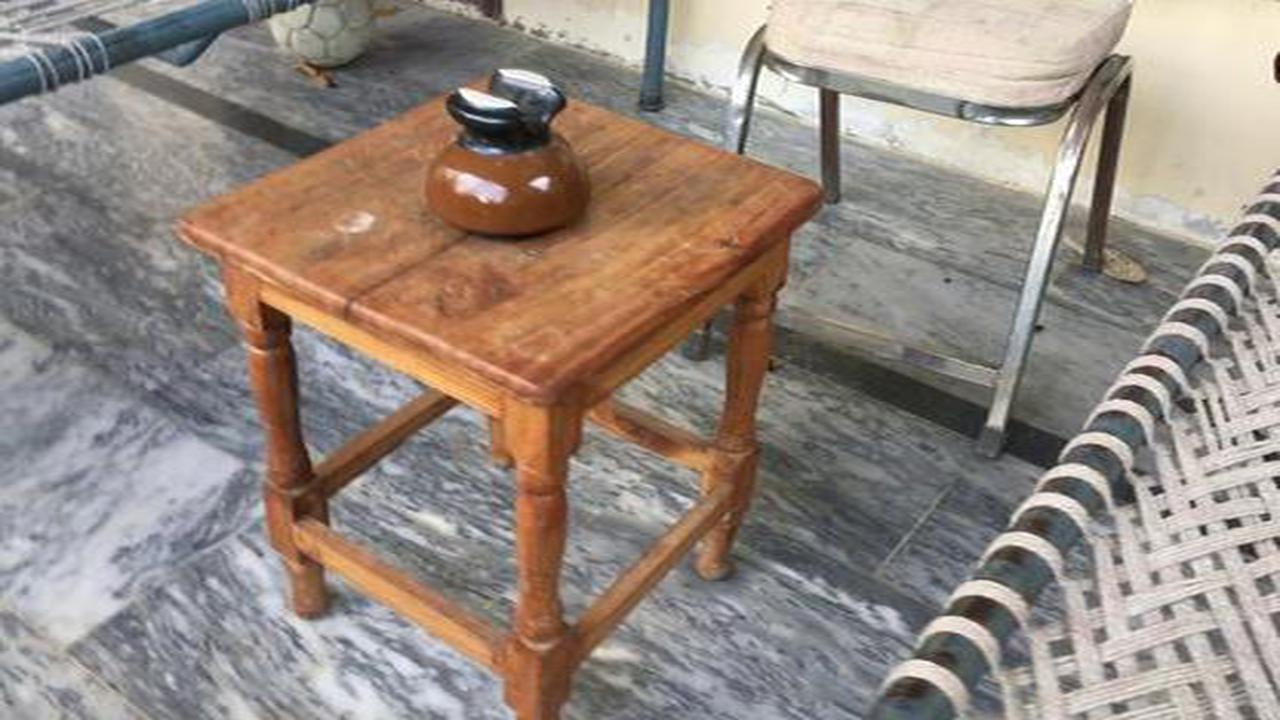insulator_pin: (413, 54, 613, 245)
